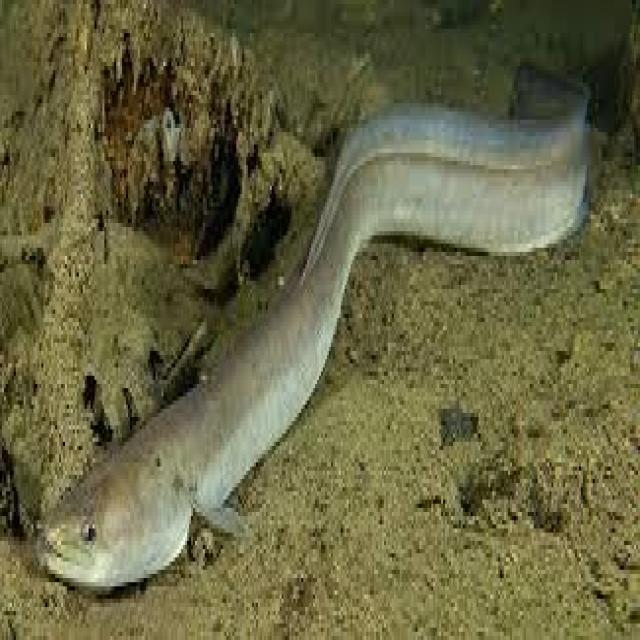Freshwater-Eel: (8, 29, 616, 632)
